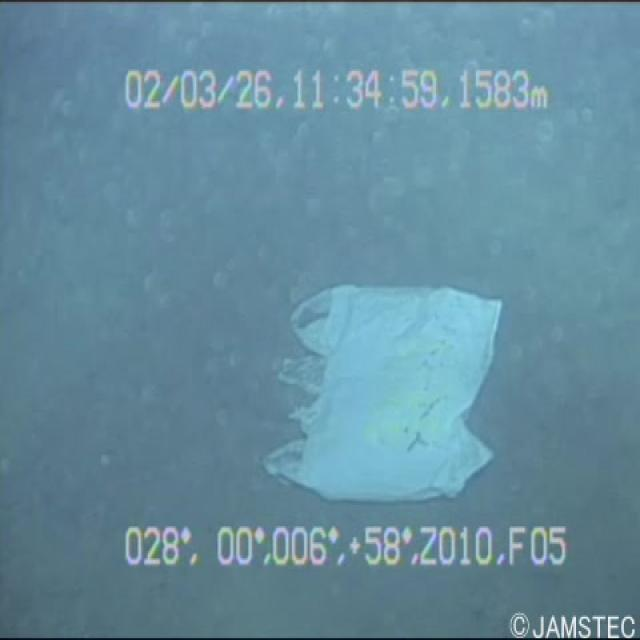plastic: (250, 251, 522, 538)
